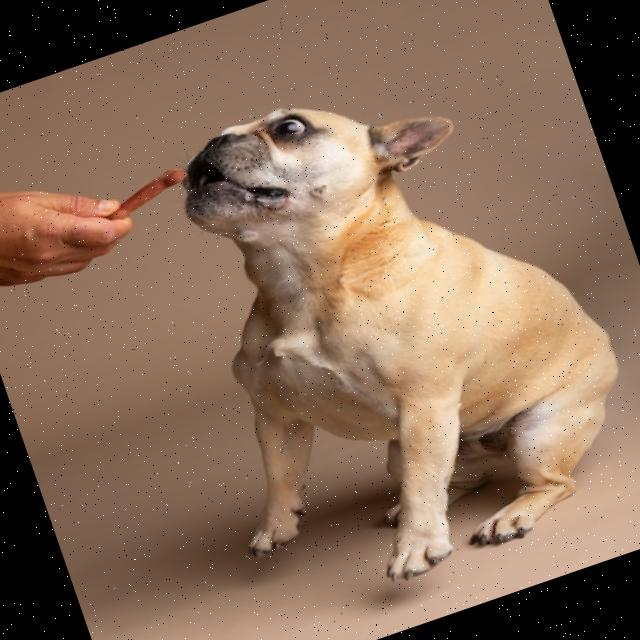Dog: (121, 32, 640, 622)
